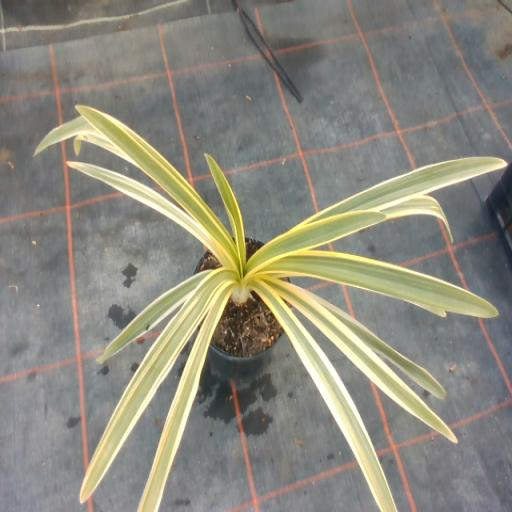Agapanthus-praecox: (80, 271, 230, 501), (256, 284, 396, 511), (263, 279, 455, 441), (78, 106, 234, 262), (138, 285, 230, 511), (270, 251, 498, 317), (302, 157, 506, 223), (318, 297, 445, 397), (69, 162, 213, 247), (98, 277, 200, 362), (247, 213, 383, 274), (206, 155, 246, 276), (381, 196, 450, 235), (34, 116, 94, 155), (74, 133, 136, 164)
